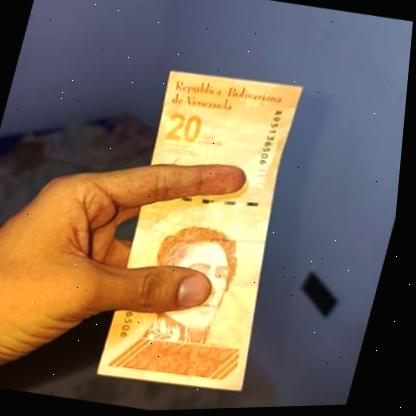twenty-front-vef: (94, 66, 323, 401)
